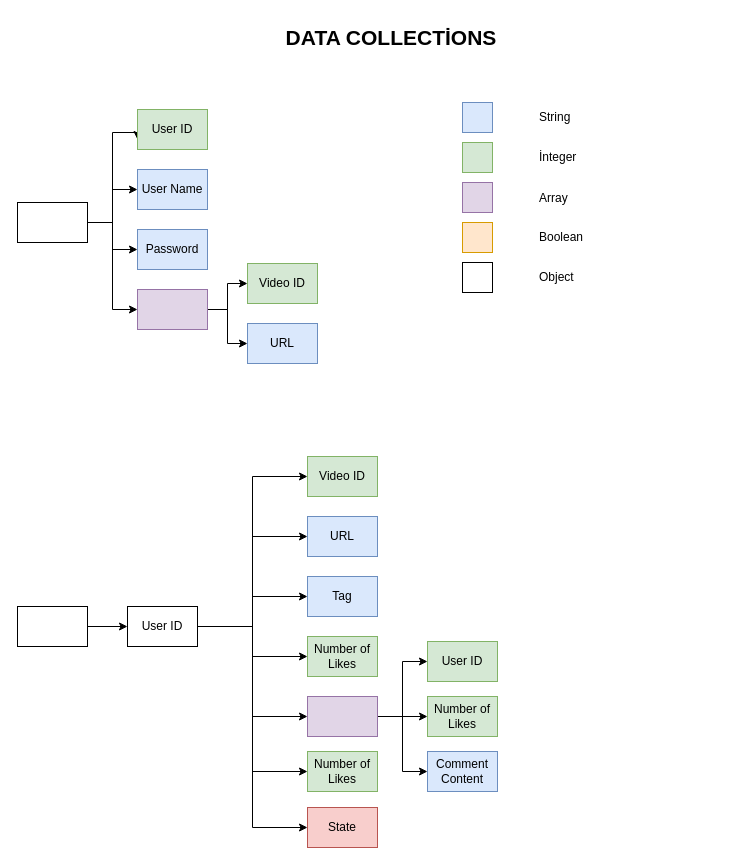
The diagram is 734 pixels wide and 865 high, and some of its shapes have lost their labels. The shapes that lost their labels are listed below. From the top down, each one's centre as x and y in pixels, then its label:
[52,222]: User
[172,309]: Watched Videos
[52,626]: Videos
[342,716]: Comments
